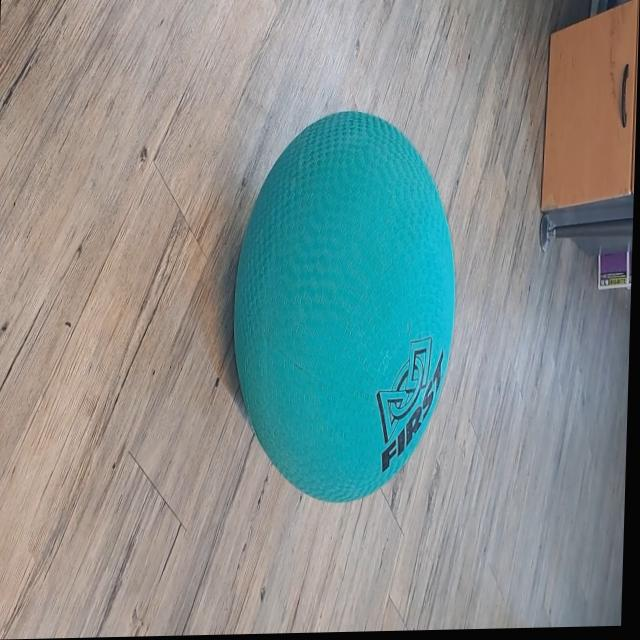ALGAE: (226, 106, 463, 507)
